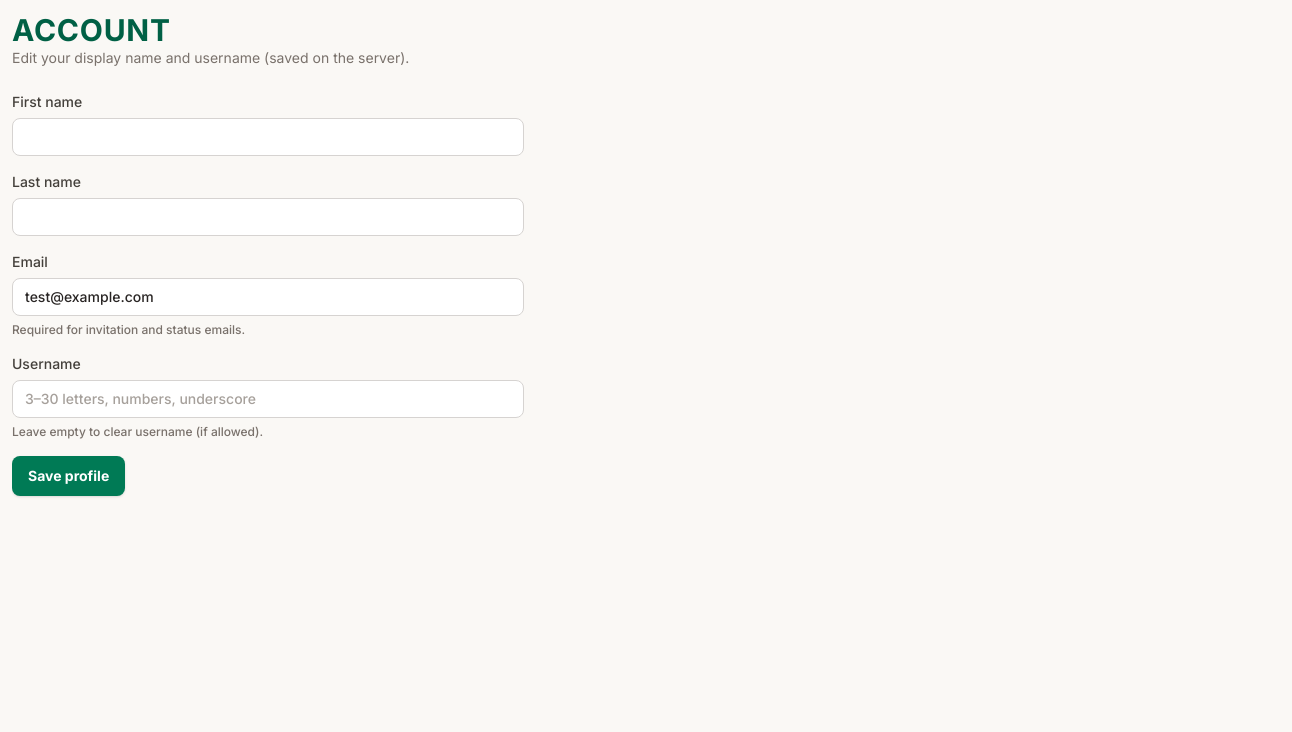
it: Account › handles update plain text error
The width and height of the screenshot is (1292, 732).
Click the button "Save profile" at (69,476), box 12,456 -> 125,496
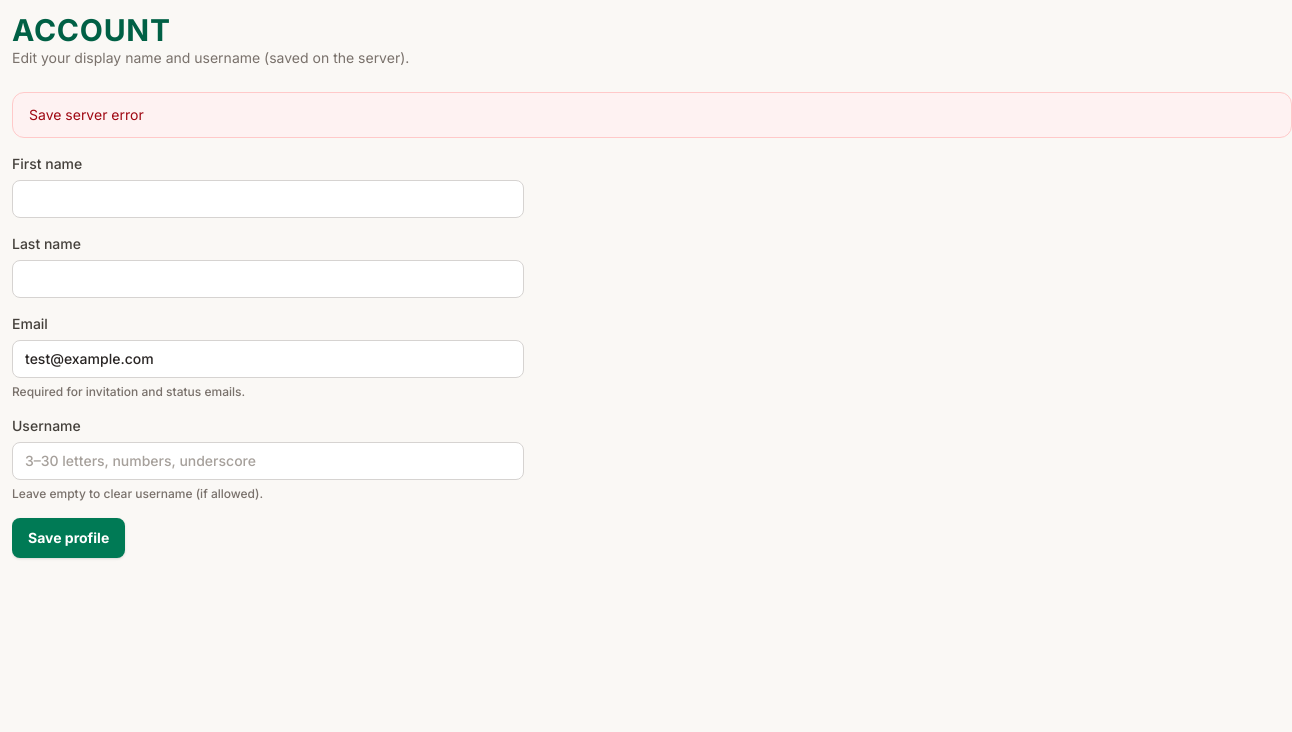
Expected: the text "Save server error" is shown, 12,92 -> 1291,138
